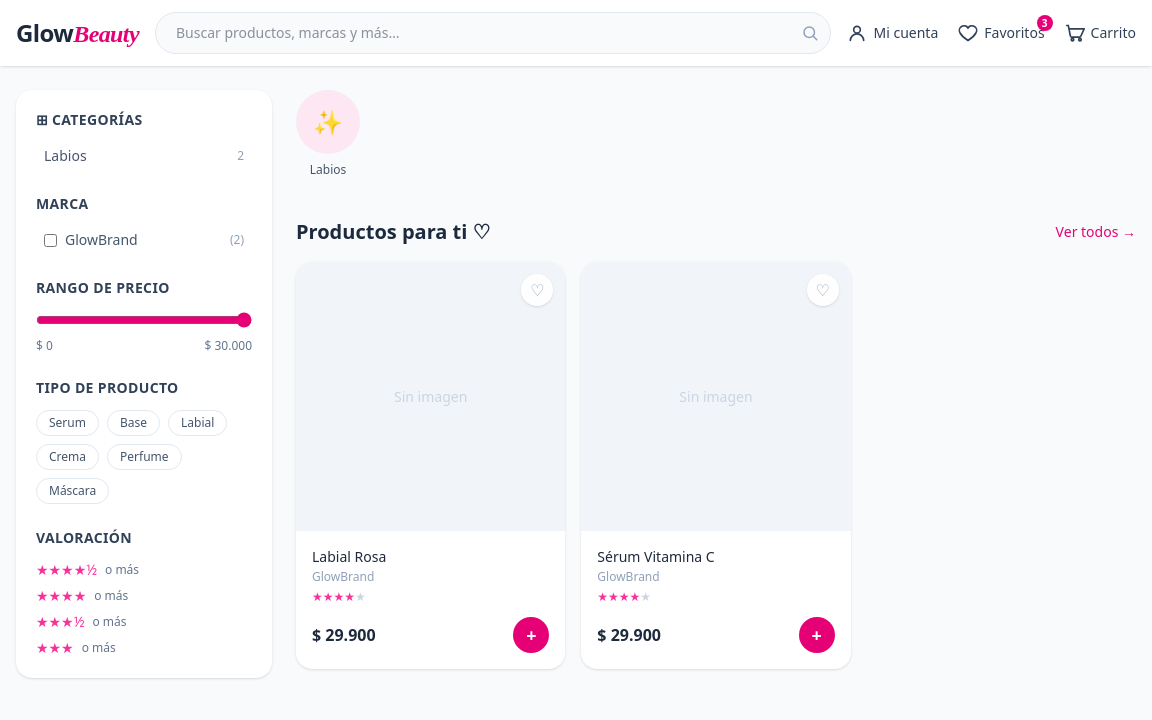
Test case: CatalogPage › filtra los productos por término de búsqueda en tiempo real
Expected: the heading "Labial Rosa" is shown, x1=312 y1=547 x2=386 y2=566
# Act – escribir en el buscador del StoreHeader
Type "sérum" into the field with placeholder "Buscar productos, marcas y más…".
click(493, 33); type("sérum")  # box x1=155 y1=12 x2=832 y2=54
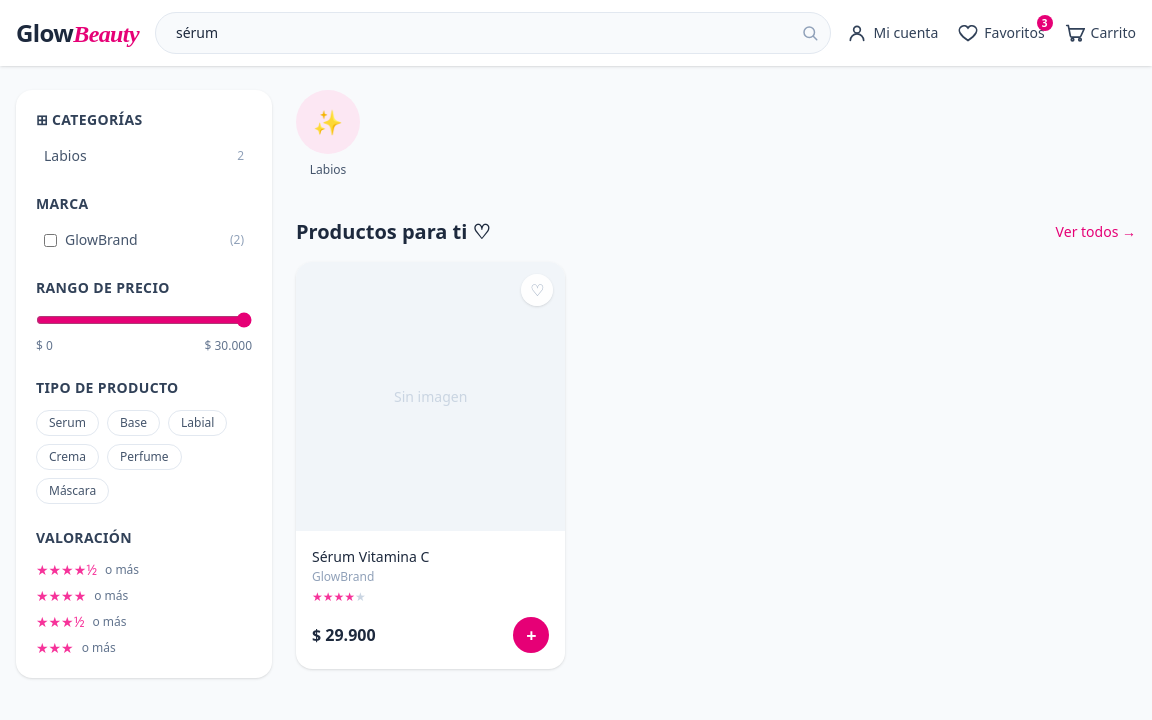
Expected: the heading "Sérum Vitamina C" is shown, x1=312 y1=547 x2=429 y2=566
Now the link "Labial Rosa" is gone
